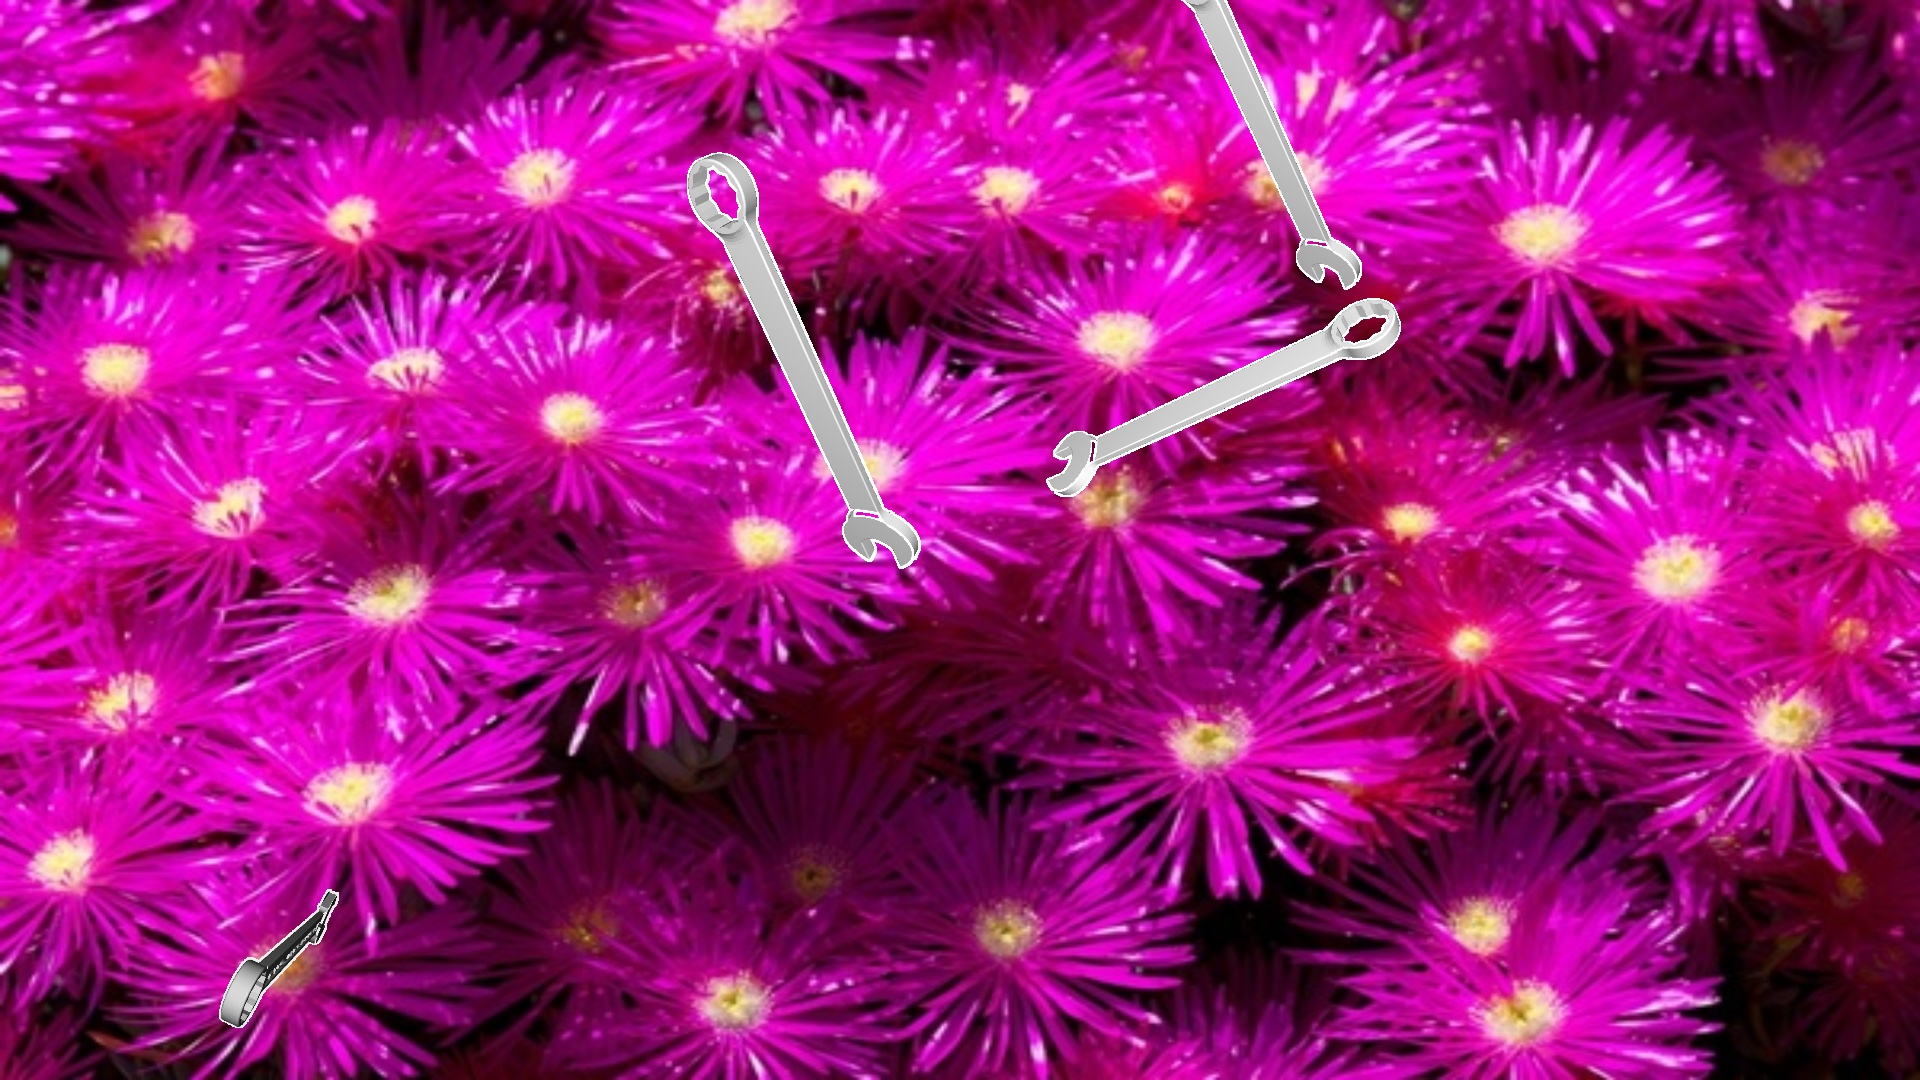Mixed Key: (687, 152, 920, 568), (1046, 298, 1400, 496), (1182, 0, 1361, 289), (219, 889, 338, 1027)
